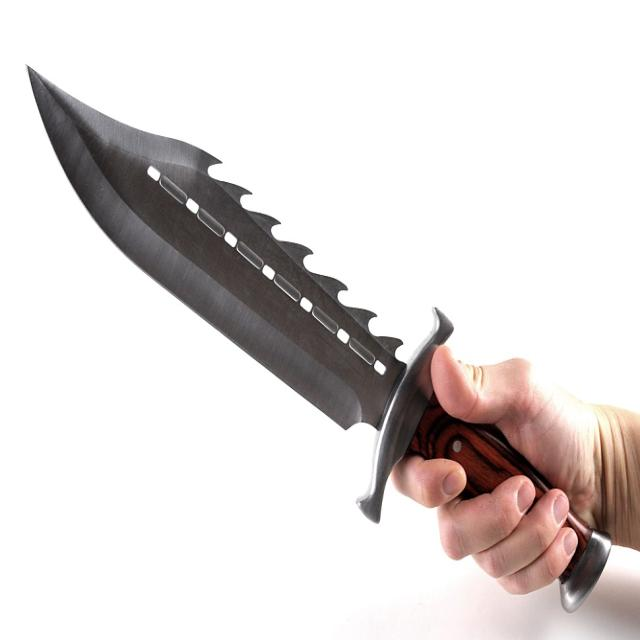knife: (24, 62, 616, 621)
